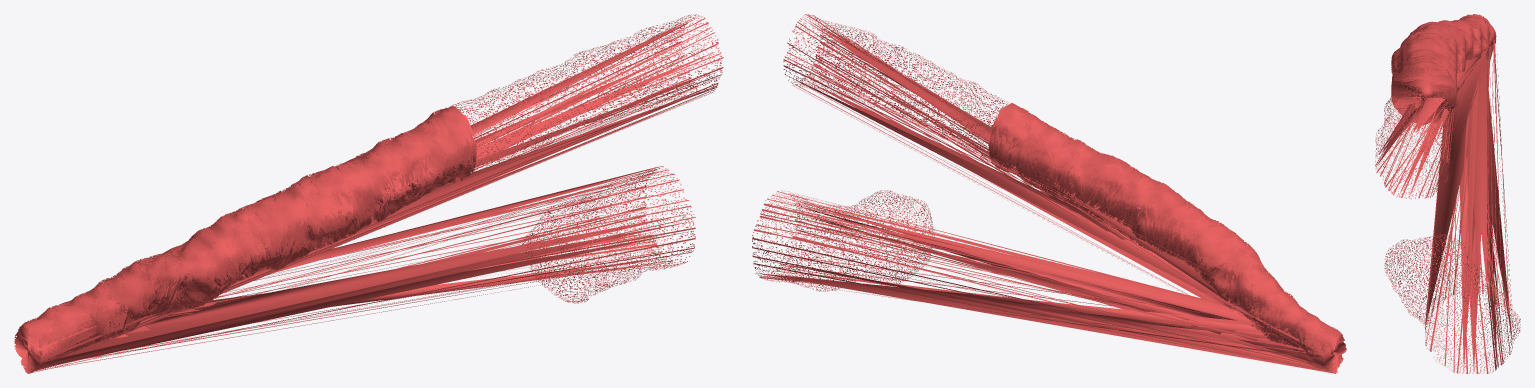
File: aorta.glb
3 renders of one model, left to right at view 1: azimuth 30°, elevation 25°; view 2: azimuth 150°, elevation 25°; view 3: azimuth 270°, elevation 25°, orthographic. The views are drawn at different scales.
Size of the model in its own units: 251 by 99.65 by 54.78.
